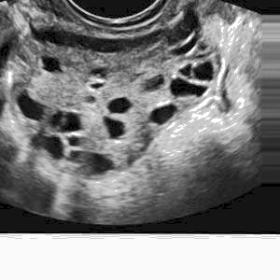PCOS: (68, 151, 120, 179), (30, 128, 66, 164), (15, 90, 50, 125), (166, 78, 209, 103), (148, 102, 178, 128), (38, 51, 66, 78), (102, 114, 127, 142), (193, 58, 216, 87), (107, 97, 136, 115), (47, 107, 66, 132), (60, 114, 83, 134), (142, 74, 166, 92), (178, 61, 197, 76), (91, 63, 106, 79), (87, 78, 107, 90), (67, 135, 82, 148), (83, 94, 97, 106)
